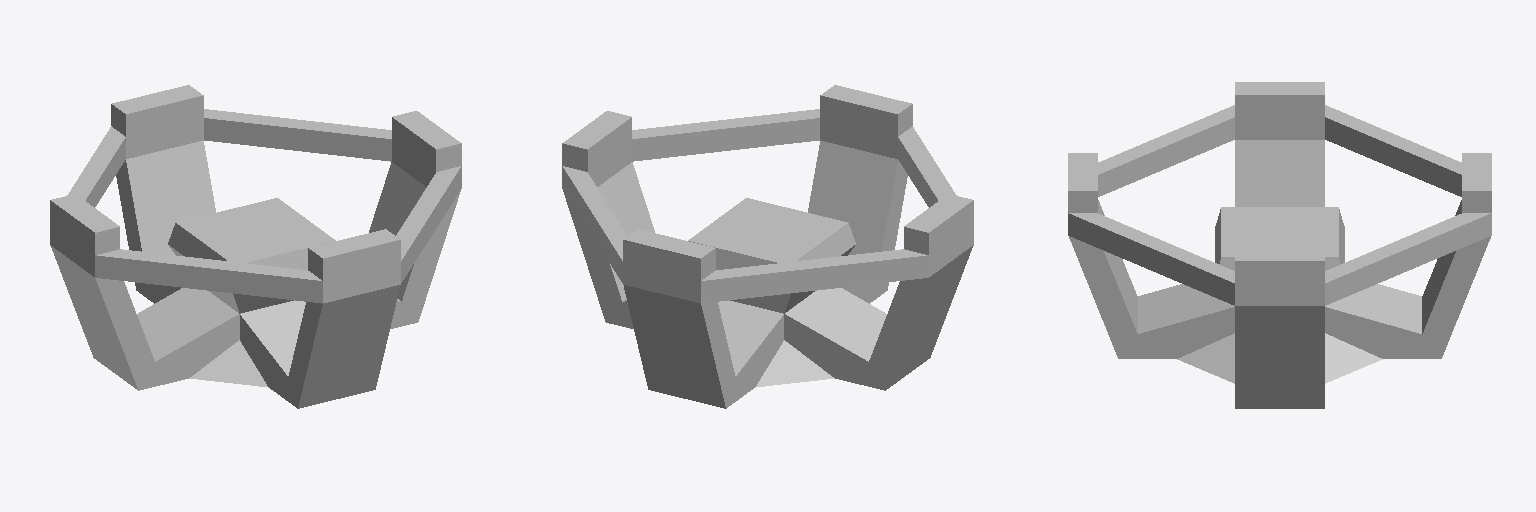
3 renders of one model, left to right at view 1: azimuth 30°, elevation 25°; view 2: azimuth 150°, elevation 25°; view 3: azimuth 270°, elevation 25°, orthographic.
Visible parts, largest first — view 1: fireBasket; view 2: fireBasket; view 3: fireBasket.
Part boxes in pixels (bbox=[...]): fireBasket: bbox=[50, 85, 461, 408]; fireBasket: bbox=[562, 85, 973, 408]; fireBasket: bbox=[1068, 82, 1491, 408].
Size of the model in its own units: 1 by 0.4394 by 1.